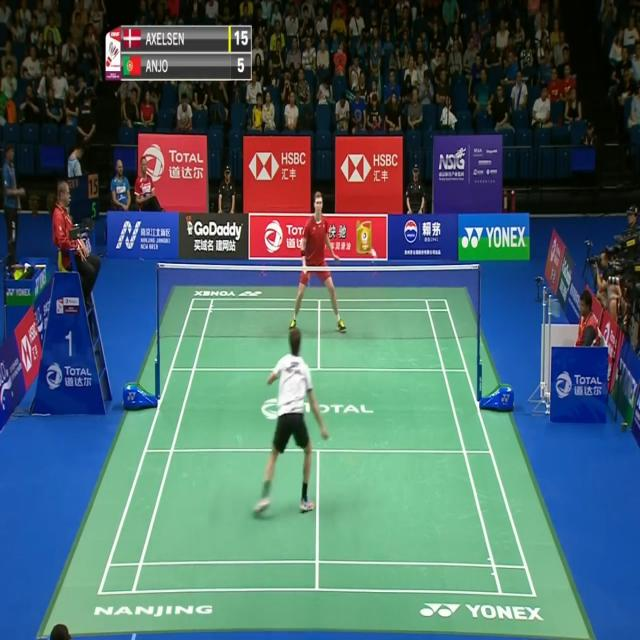Player1: (249, 323, 331, 519)
Player2: (287, 190, 347, 332)
